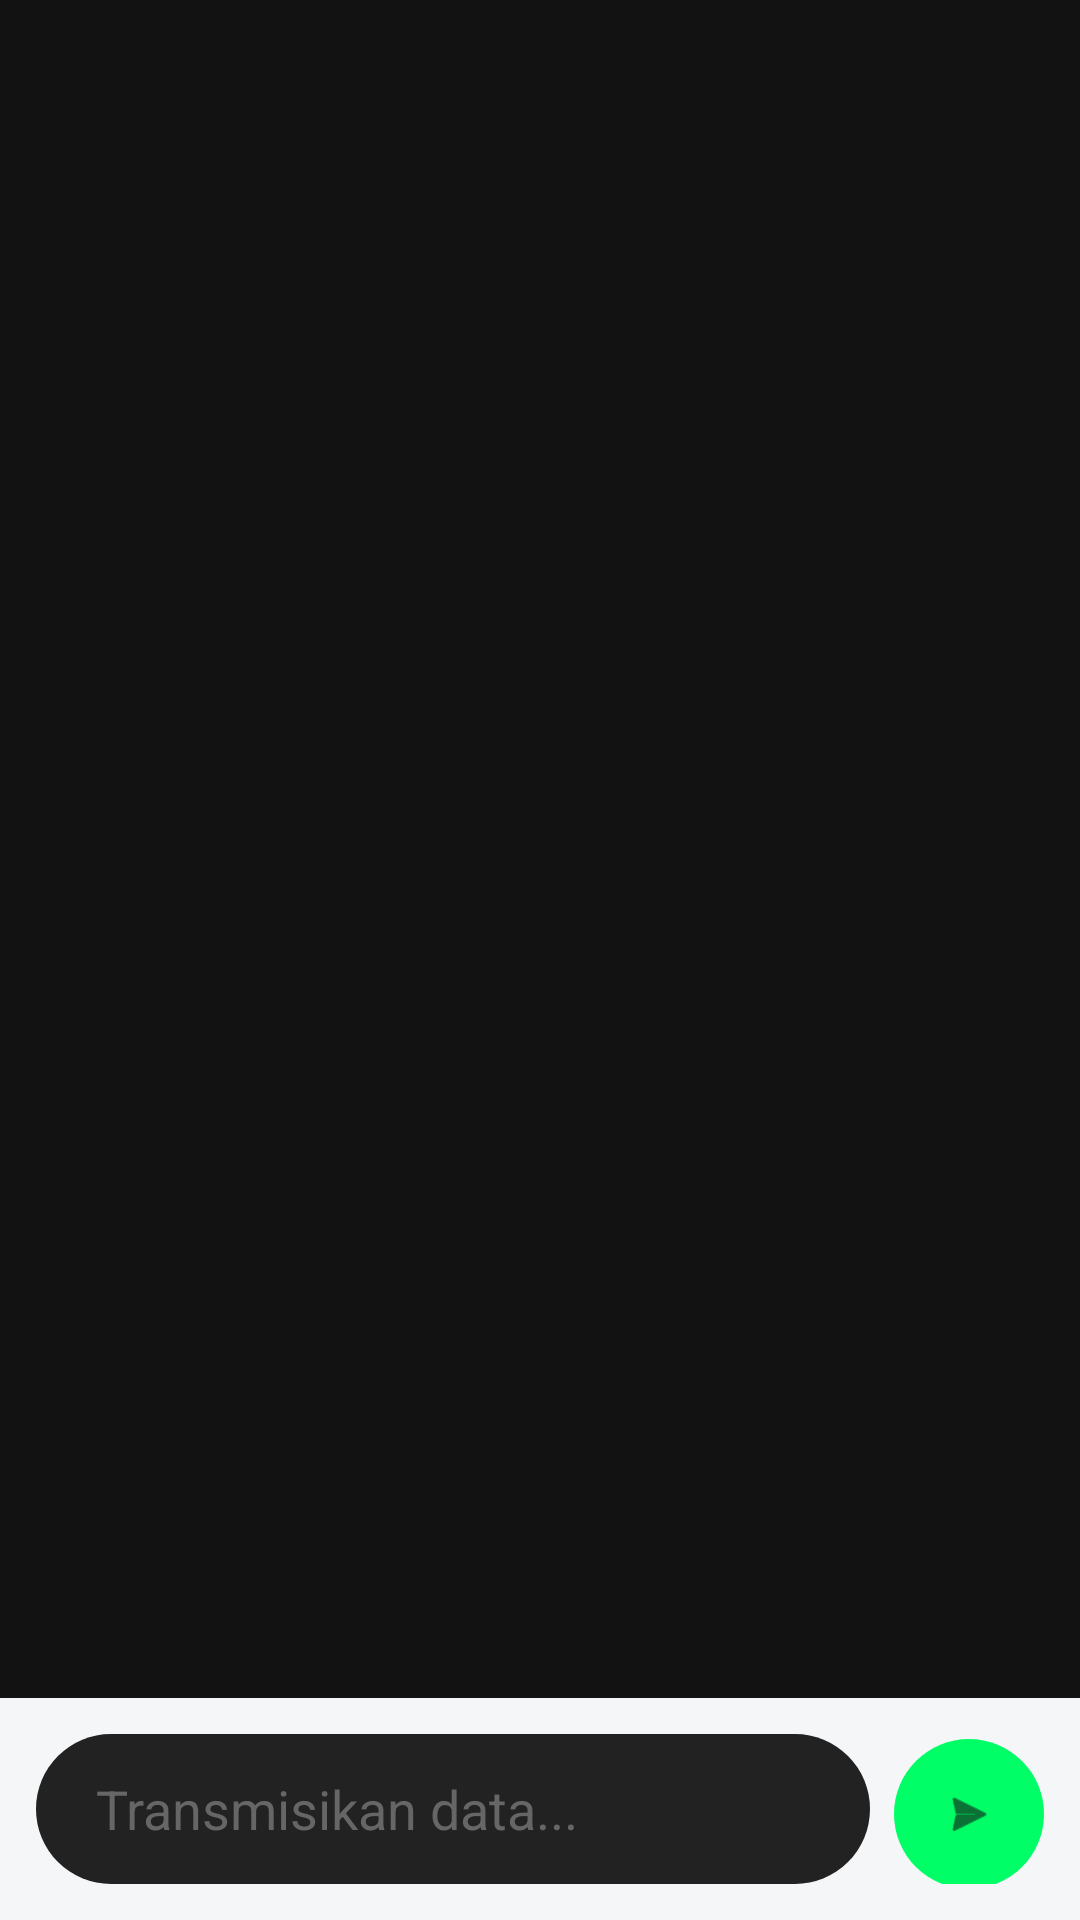

Icons on this 1080px x 1920px Android screen, each with the point to tap as [x,y]:
Kirim Pesan: [969,1811]
